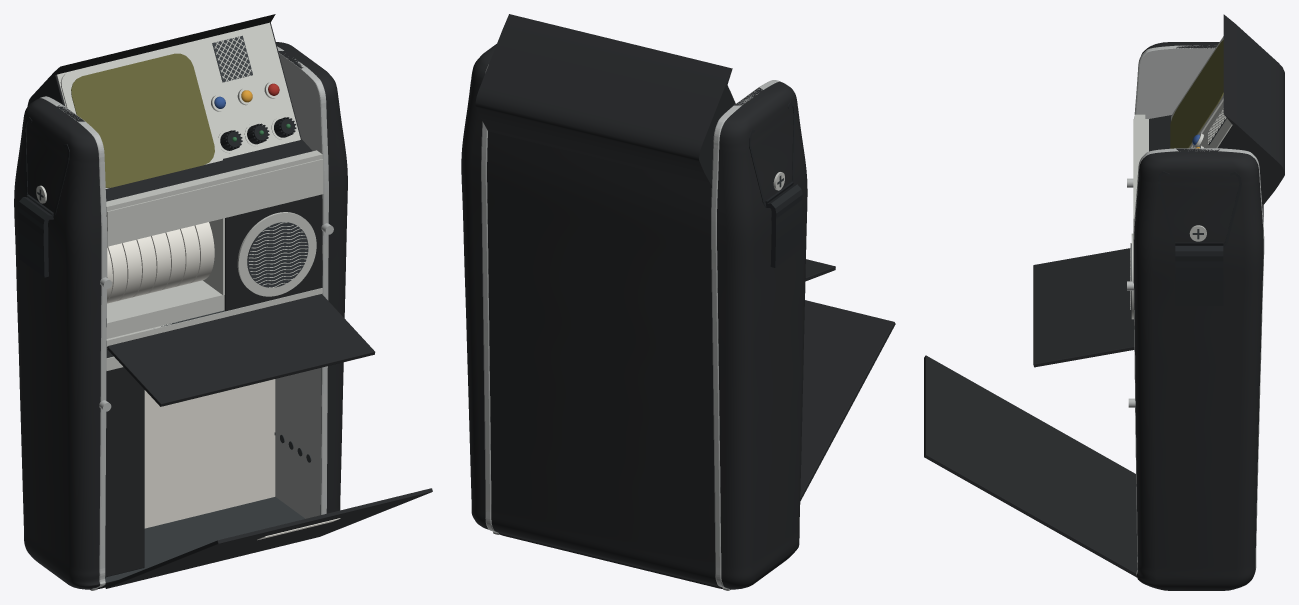
Rendered from medical-tricorder.glb.
3 views of the same model, side by side, from view 1: azimuth 30°, elevation 25°; view 2: azimuth 150°, elevation 25°; view 3: azimuth 270°, elevation 25° (orthographic). The views are drawn at different scales.
Parts seen in each view (by area): view 1: case body (pebbled), record-compare section lid panel, analyzer bay back (circuitry, classified), video display, case frame (brushed), life form functions sensor/analyzer, frame member (antimony), video/controls faceplate (antimony), analyzer compartment lid (lower) panel, speaker faceplate, disc holder frame, case frame (brushed).001 (+16 smaller); view 2: case body (pebbled), head shell (pebbled), analyzer compartment lid (lower) panel, case frame (brushed).001, case frame (brushed), 127 cm naugahyde shoulder strap.001; view 3: case body (pebbled), analyzer compartment lid (lower) panel, record-compare section lid panel, head shell (pebbled), case frame (brushed).001, 127 cm naugahyde shoulder strap, video display, case frame (brushed), frame member upper lip (antimony), video/controls faceplate (antimony), hinge bracket (outline).
Part boxes in pixels (x1,y1,x2,y2): case body (pebbled): (14,42,347,589); record-compare section lid panel: (107,294,375,406); analyzer bay back (circuitry, classified): (144,379,275,528); video display: (71,53,214,187); case frame (brushed): (275,46,328,518); life form functions sensor/analyzer: (105,347,144,577); frame member (antimony): (106,159,323,246); video/controls faceplate (antimony): (56,22,300,158); analyzer compartment lid (lower) panel: (105,488,432,588); speaker faceplate: (224,194,322,310); disc holder frame: (106,280,224,338); case frame (brushed).001: (40,96,107,590); case body (pebbled): (461,44,807,589); head shell (pebbled): (475,14,735,185); analyzer compartment lid (lower) panel: (800,300,895,500); case frame (brushed).001: (711,80,780,590); case frame (brushed): (481,64,499,534); 127 cm naugahyde shoulder strap.001: (765,182,802,267); case body (pebbled): (1134,42,1263,590); analyzer compartment lid (lower) panel: (924,355,1136,577); record-compare section lid panel: (1033,248,1134,367); head shell (pebbled): (1218,14,1284,205); case frame (brushed).001: (1134,45,1215,118); 127 cm naugahyde shoulder strap: (1175,242,1223,305); video display: (1170,40,1223,148); case frame (brushed): (1133,148,1264,575); frame member upper lip (antimony): (1134,114,1145,214); video/controls faceplate (antimony): (1193,101,1232,148); hinge bracket (outline): (1158,171,1241,247).
Size of the model in its own units: 0.1226 by 0.1936 by 0.1347.
